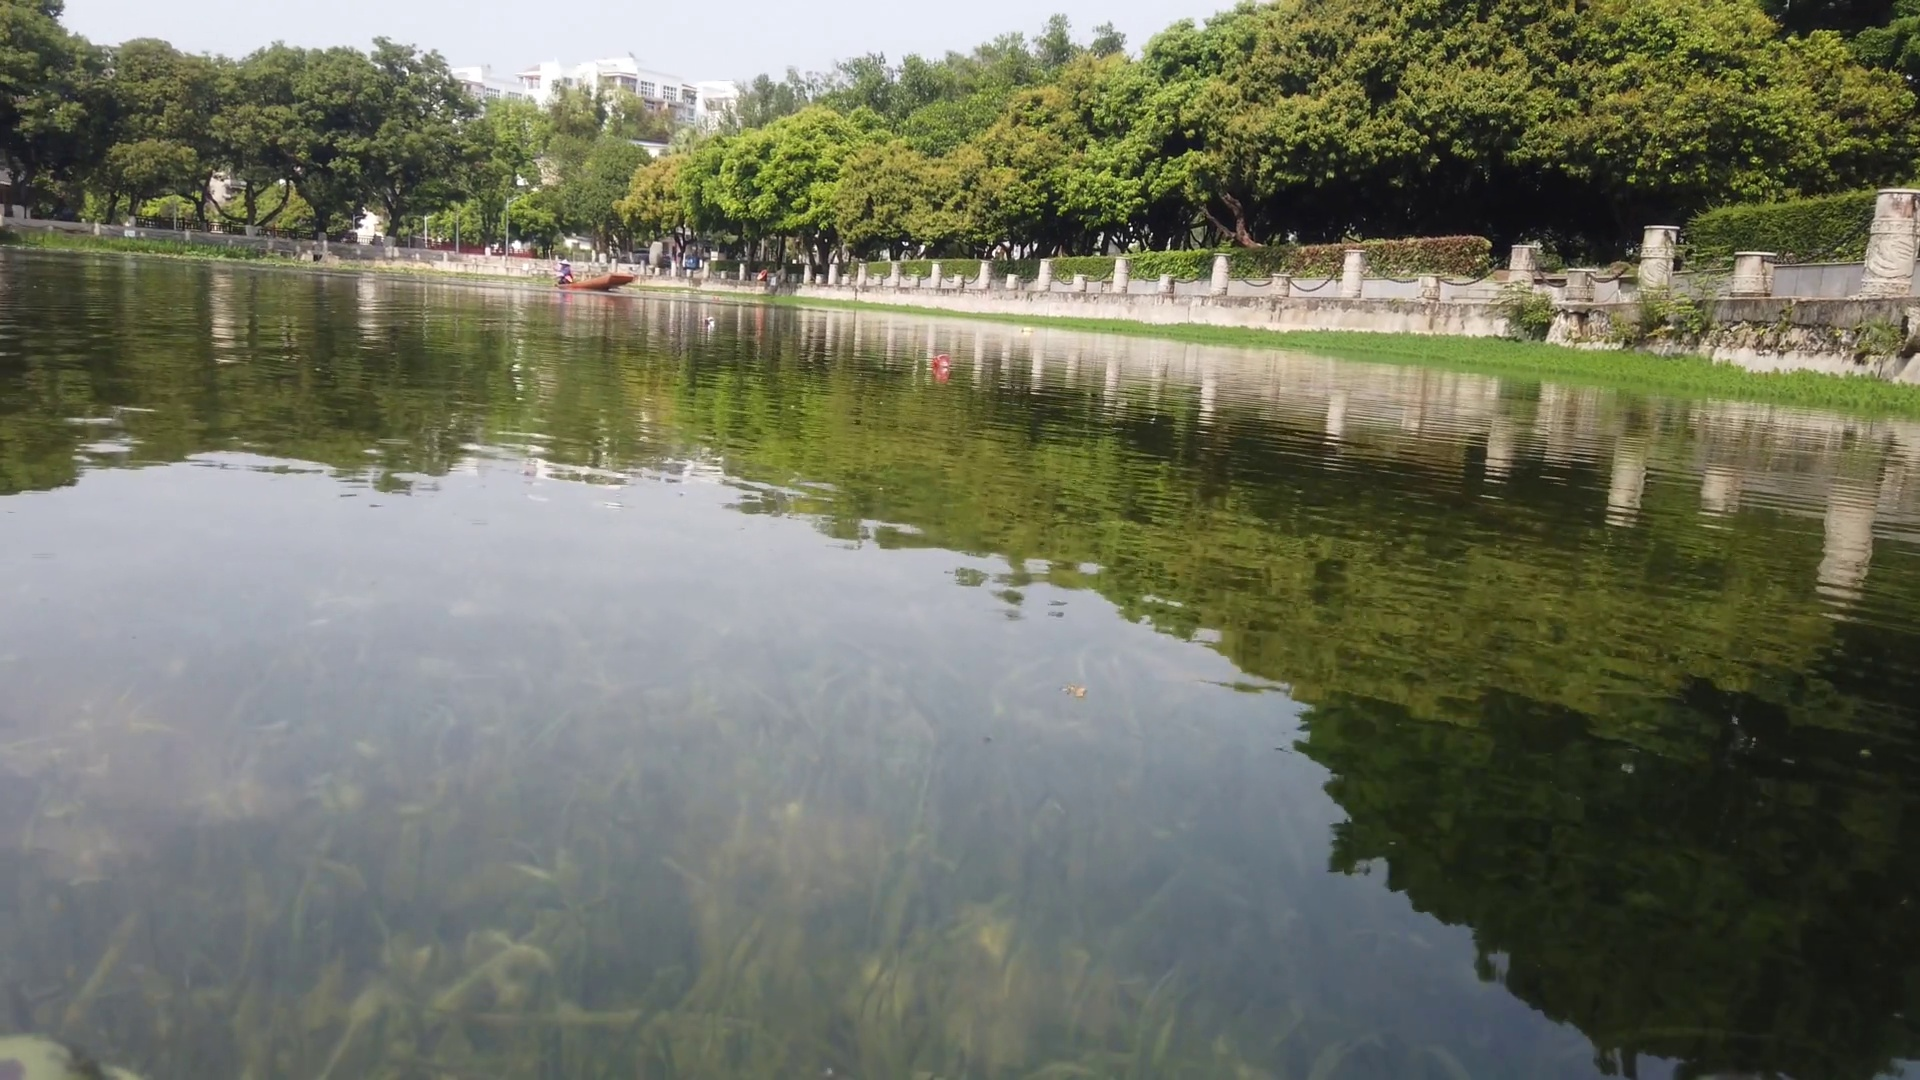bottle: (932, 355, 949, 367), (1018, 326, 1035, 338), (705, 315, 713, 328)
